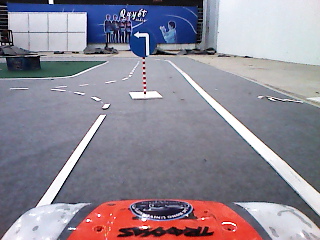turn: (129, 28, 157, 59)
